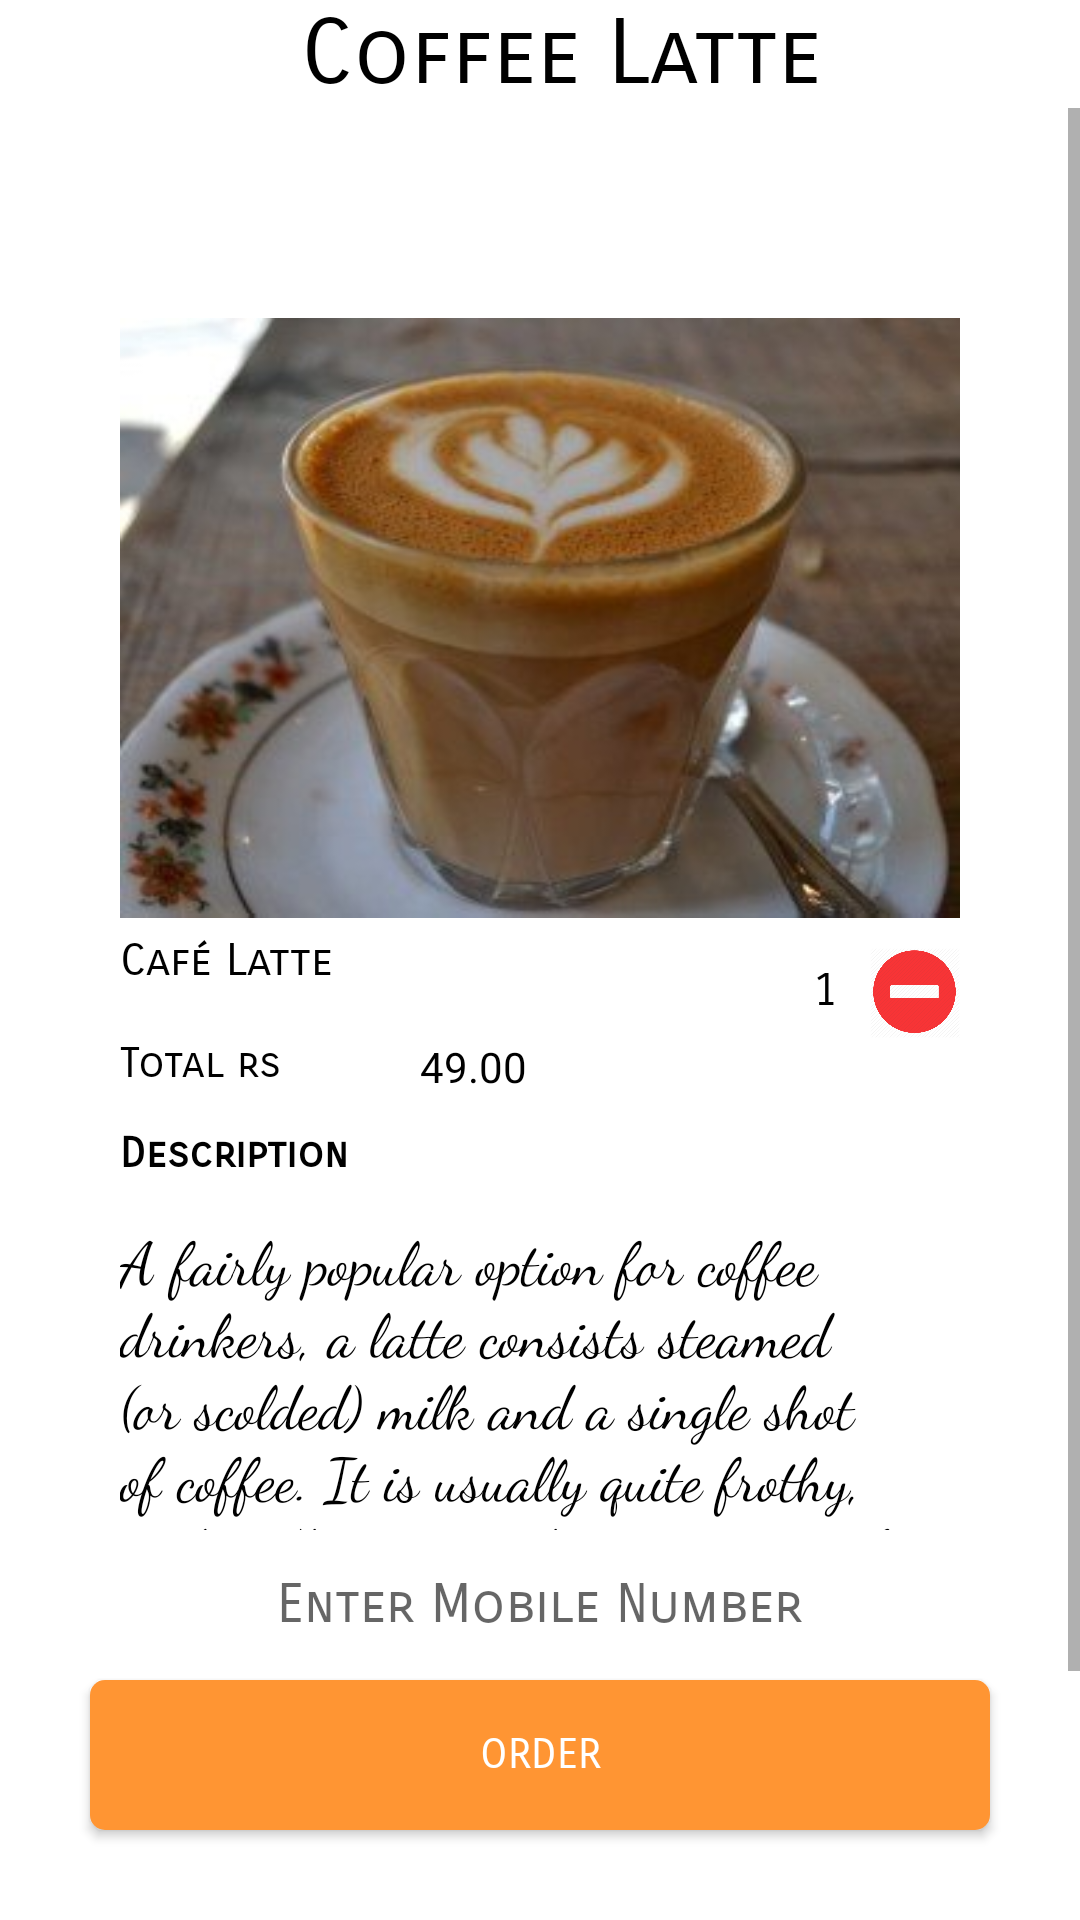

Where to tap for icons on this 1080*1920 app screen, as (x,y):
minus: (914,991)
